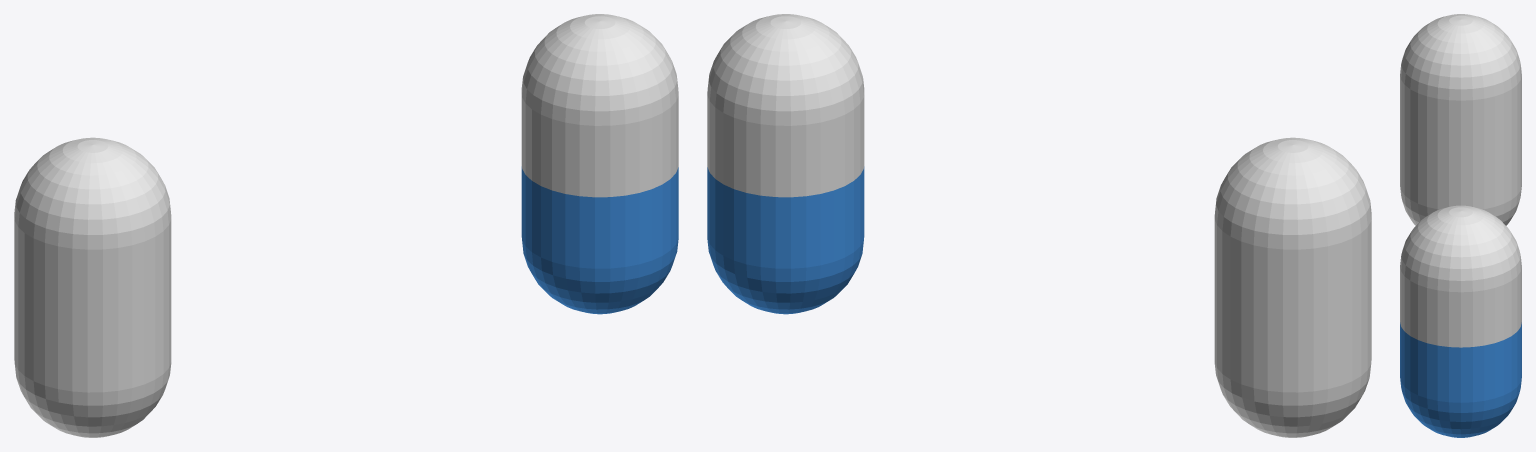
File: Pill.fbx
The picture shows the model from 3 angles, left to right: view 1: azimuth 30°, elevation 25°; view 2: azimuth 150°, elevation 25°; view 3: azimuth 270°, elevation 25°; orthographic projection. The views are drawn at different scales.
Parts seen in each view (by area): view 1: Cylinder, Cylinder.001, Cylinder.002, Sphere.002, Sphere.003; view 2: Cylinder, Cylinder.001, Cylinder.002, Sphere.002, Sphere.003; view 3: Cylinder, Cylinder.001, Cylinder.002, Sphere.002, Sphere.003.
Boxes of the visible parts, x1,y1,x2,y2 form: Cylinder: (521, 14, 678, 197); Cylinder.001: (14, 218, 171, 392); Cylinder.002: (521, 166, 678, 314); Sphere.002: (14, 137, 171, 249); Sphere.003: (14, 362, 171, 437); Cylinder: (707, 14, 864, 197); Cylinder.001: (1214, 218, 1371, 392); Cylinder.002: (707, 166, 864, 314); Sphere.002: (1214, 137, 1371, 249); Sphere.003: (1214, 362, 1371, 437); Cylinder: (1400, 205, 1521, 347); Cylinder.001: (1400, 76, 1521, 209); Cylinder.002: (1400, 322, 1521, 437); Sphere.002: (1400, 14, 1521, 100); Sphere.003: (1400, 186, 1521, 225).
Size of the model in its own units: 943 by 400 by 200.
